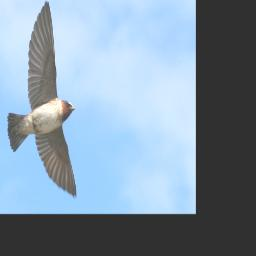Swallow: (6, 0, 77, 197)
